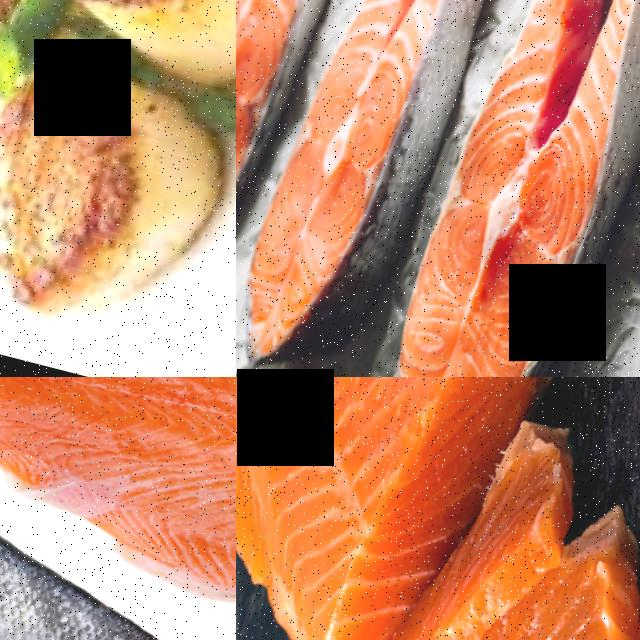salmon: (236, 0, 533, 377), (368, 0, 640, 377), (236, 377, 548, 640), (0, 377, 236, 615), (236, 0, 395, 289), (434, 506, 640, 640)
sea scallops: (0, 50, 236, 334)
